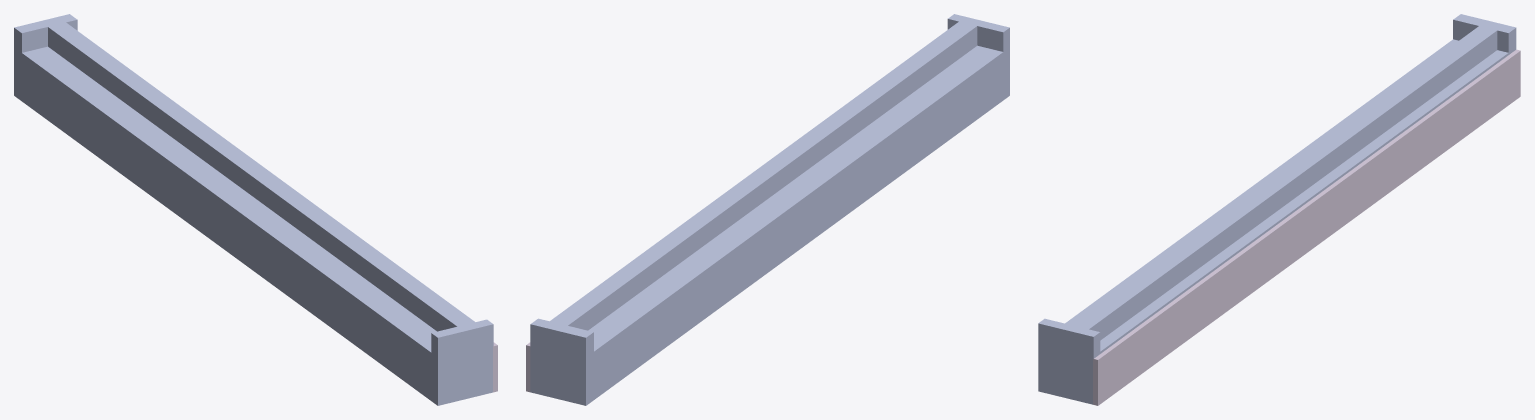
Rendered from WallFrame_Bottom.fbx.
3 views of the same model, side by side, from view 1: azimuth 30°, elevation 25°; view 2: azimuth 150°, elevation 25°; view 3: azimuth 330°, elevation 25° (orthographic).
Visible parts, largest first — view 1: WallWithSkirt.006; view 2: WallWithSkirt.006; view 3: WallWithSkirt.006.
Boxes of the visible parts, x1=… form: WallWithSkirt.006: x1=14, y1=14, x2=497, y2=405; WallWithSkirt.006: x1=526, y1=14, x2=1009, y2=405; WallWithSkirt.006: x1=1038, y1=14, x2=1520, y2=405.
Size of the model in its own units: 16.36 by 17.74 by 200.
